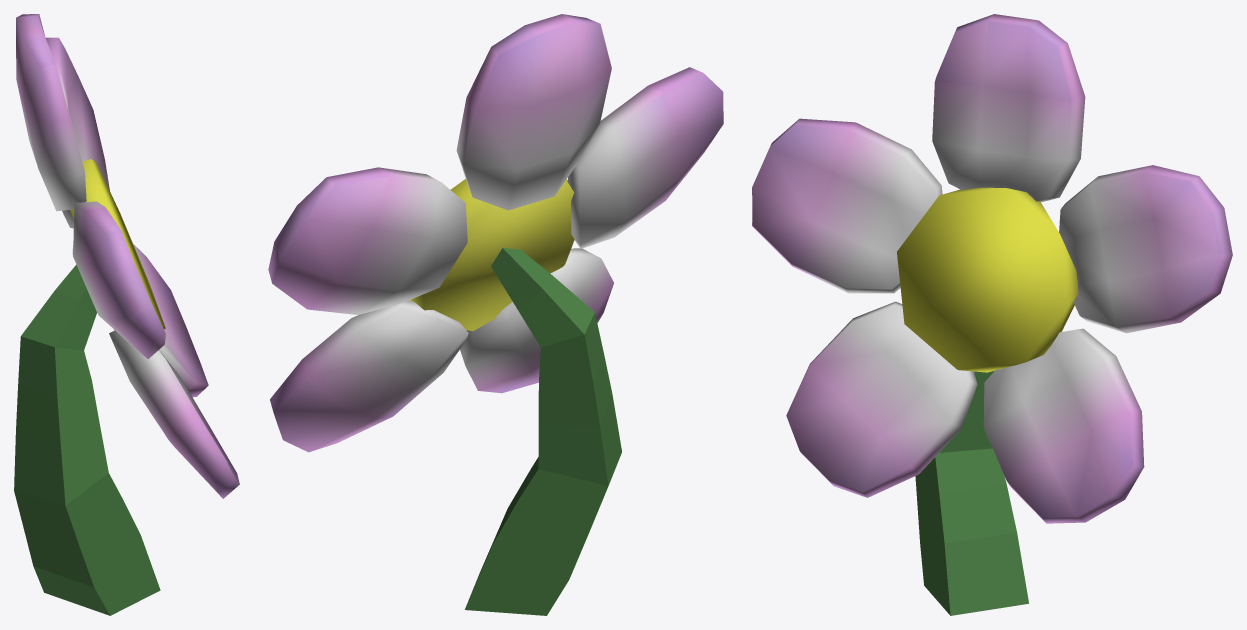
File: flower.fbx
3 renders of one model, left to right at view 1: azimuth 30°, elevation 25°; view 2: azimuth 150°, elevation 25°; view 3: azimuth 270°, elevation 25°, orthographic. The views are drawn at different scales.
Visible parts, largest first — view 1: Plane; view 2: Plane; view 3: Plane.
Part boxes in pixels (bbox=[...]): Plane: bbox=[14, 14, 239, 615]; Plane: bbox=[268, 14, 723, 615]; Plane: bbox=[752, 14, 1232, 615].
Size of the model in its own units: 45.12 by 98.92 by 78.41.
